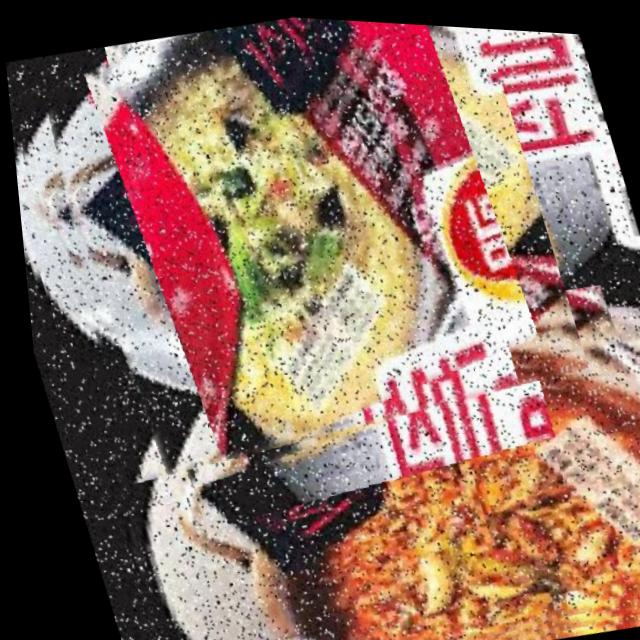Miscellaneous: (0, 0, 601, 505), (44, 239, 640, 640)
